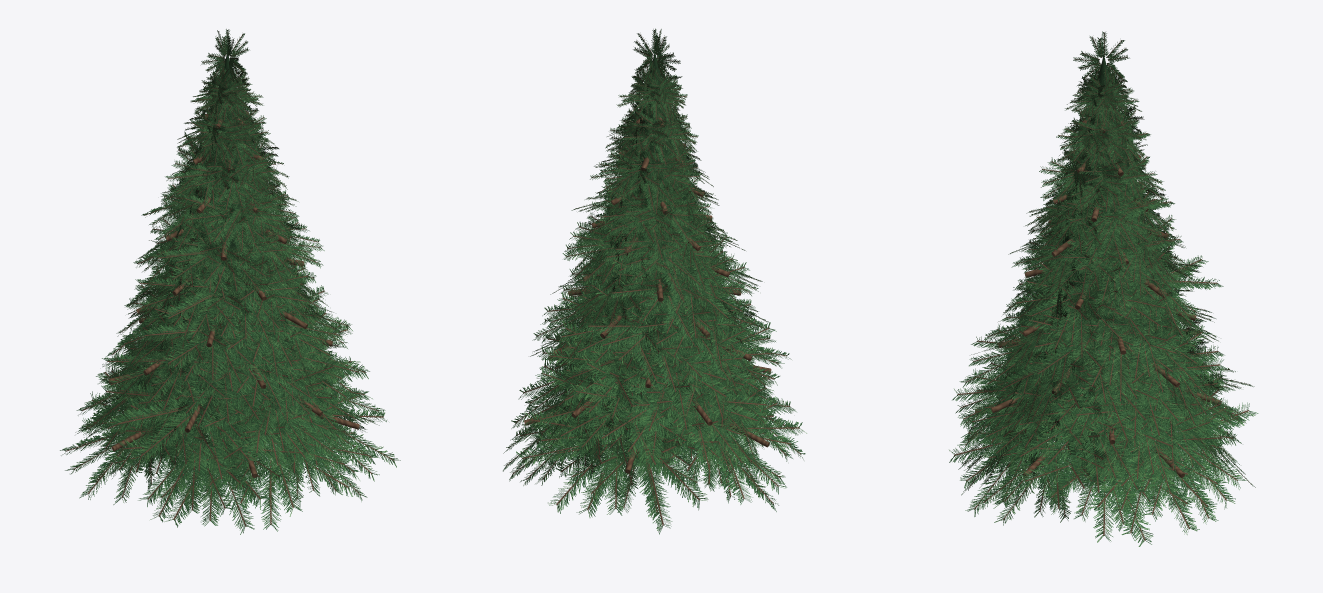
The model's file is tree_pine.fbx.
3 renders of one model, left to right at view 1: azimuth 30°, elevation 25°; view 2: azimuth 150°, elevation 25°; view 3: azimuth 270°, elevation 25°, orthographic. The views are drawn at different scales.
Parts seen in each view (by area): view 1: needles, tree_pine; view 2: needles, tree_pine; view 3: needles, tree_pine.
Part boxes in pixels (x1,y1,x2,y2): needles: (60, 29, 400, 534); tree_pine: (108, 51, 359, 477); needles: (503, 28, 806, 534); tree_pine: (524, 52, 771, 473); needles: (949, 31, 1258, 546); tree_pine: (975, 54, 1232, 480).
Bounding box in the file's own units: 2.66 × 3.45 × 2.65.
